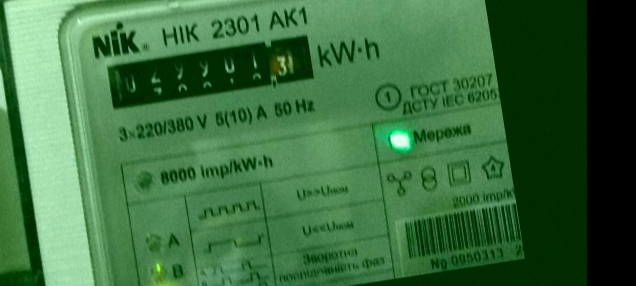0: (217, 48, 236, 75), (119, 69, 137, 94)
1: (244, 44, 260, 70)
2: (144, 61, 162, 85)
3: (271, 52, 289, 77)
9: (194, 54, 209, 79), (169, 57, 184, 80)
screen: (95, 24, 323, 119)
